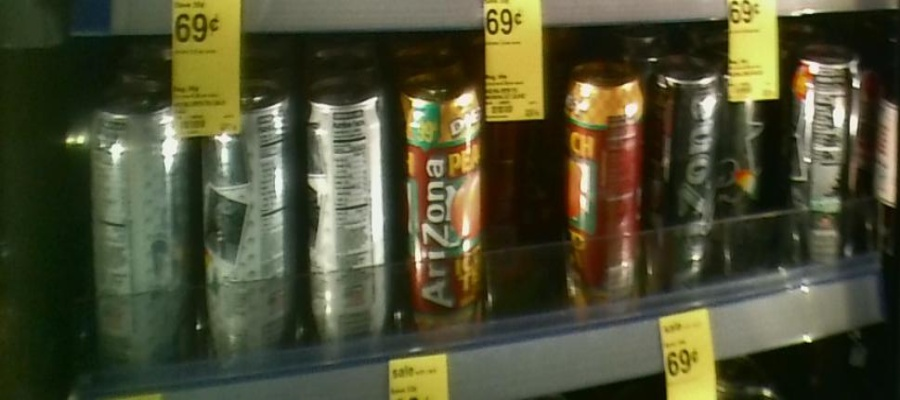bottle: (82, 86, 197, 390), (197, 71, 299, 384), (303, 79, 397, 364), (401, 69, 486, 346), (562, 58, 650, 317), (651, 51, 720, 303), (789, 36, 861, 264), (723, 58, 779, 273)
